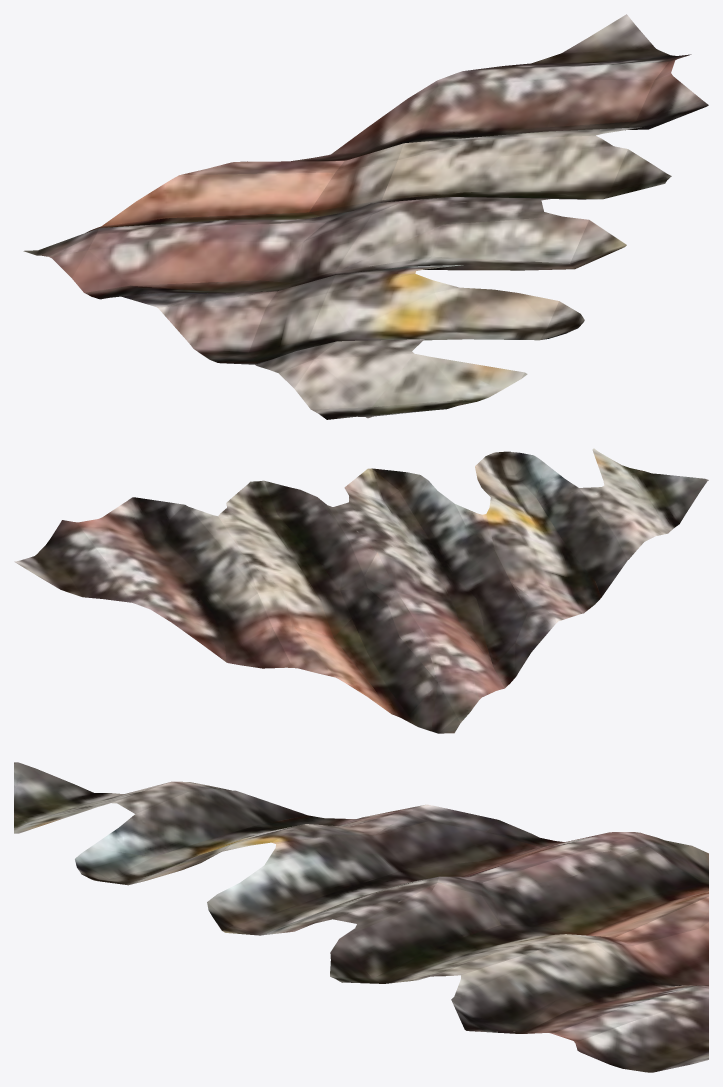
The picture shows the model from 3 angles, top to bottom: view 1: azimuth 30°, elevation 25°; view 2: azimuth 150°, elevation 25°; view 3: azimuth 270°, elevation 25°; orthographic projection. The views are drawn at different scales.
Size of the model in its own units: 0.8373 by 0.1363 by 0.8374.
2 materials, 2 textured.
